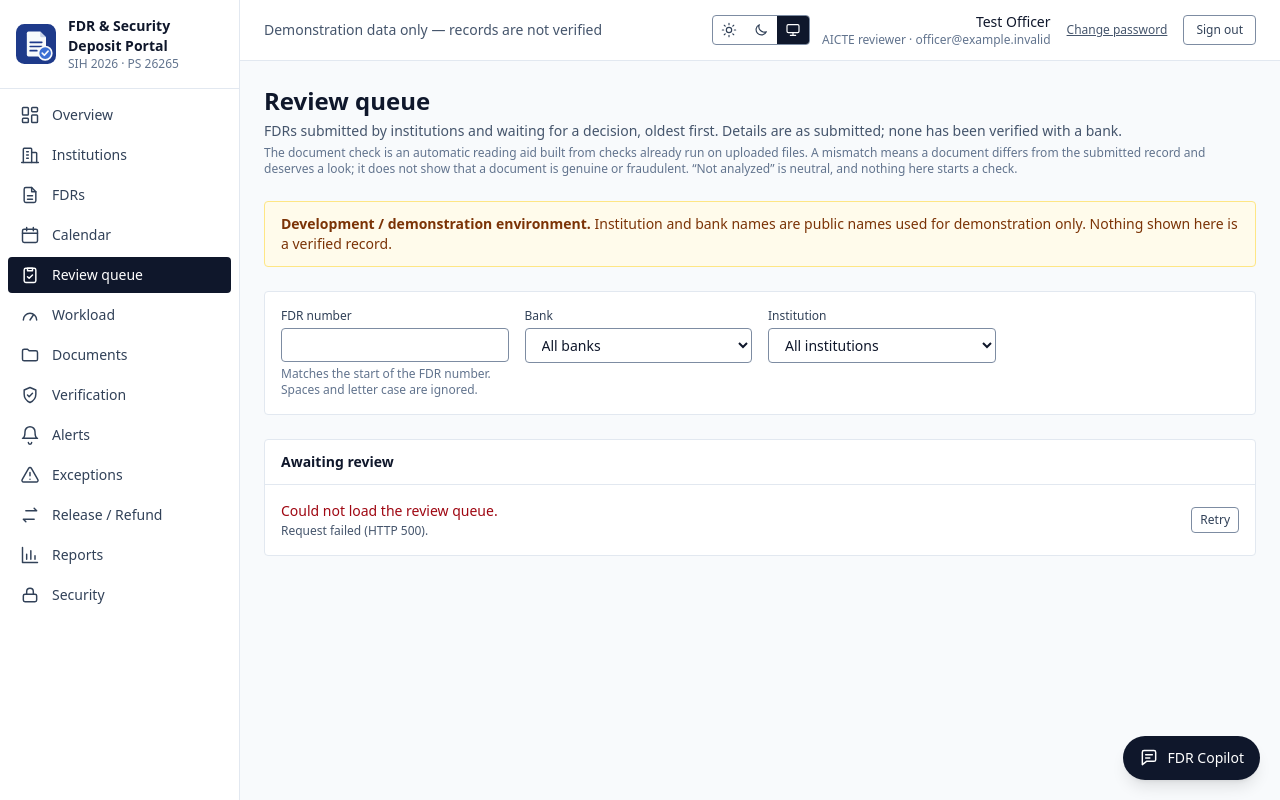
Test: loading, errors and sessions › shows a server error as an error, never as an empty queue, and recovers on retry
Check: the message shows "HTTP 500", box [281,522,425,539]
Click the button "Retry": click(1215, 520) [1191,507,1239,533]
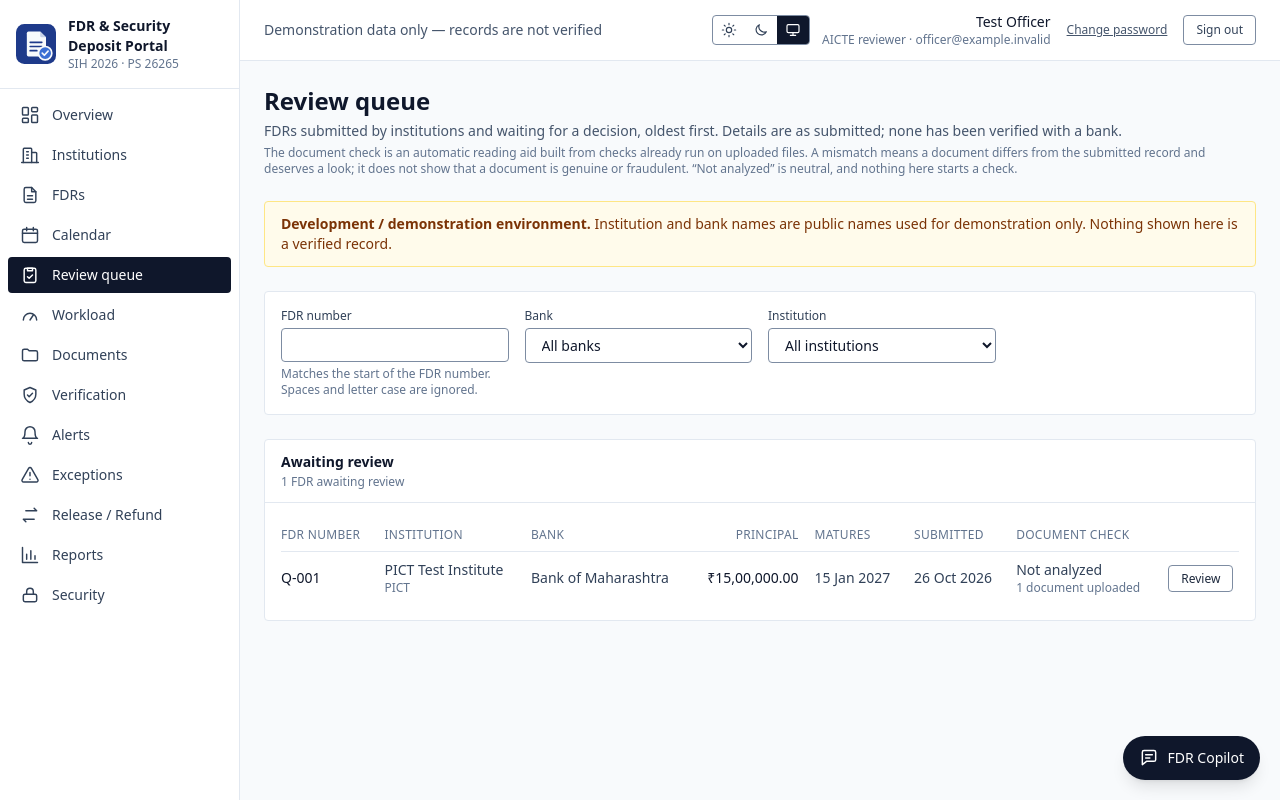
Check: the column heading "Q-001" is shown, box [281,552,384,604]
